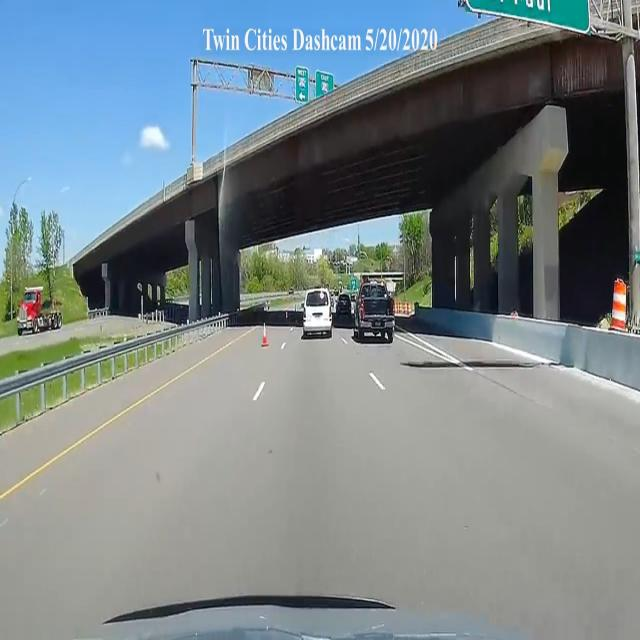Traffic Cone: (258, 328, 269, 346)
